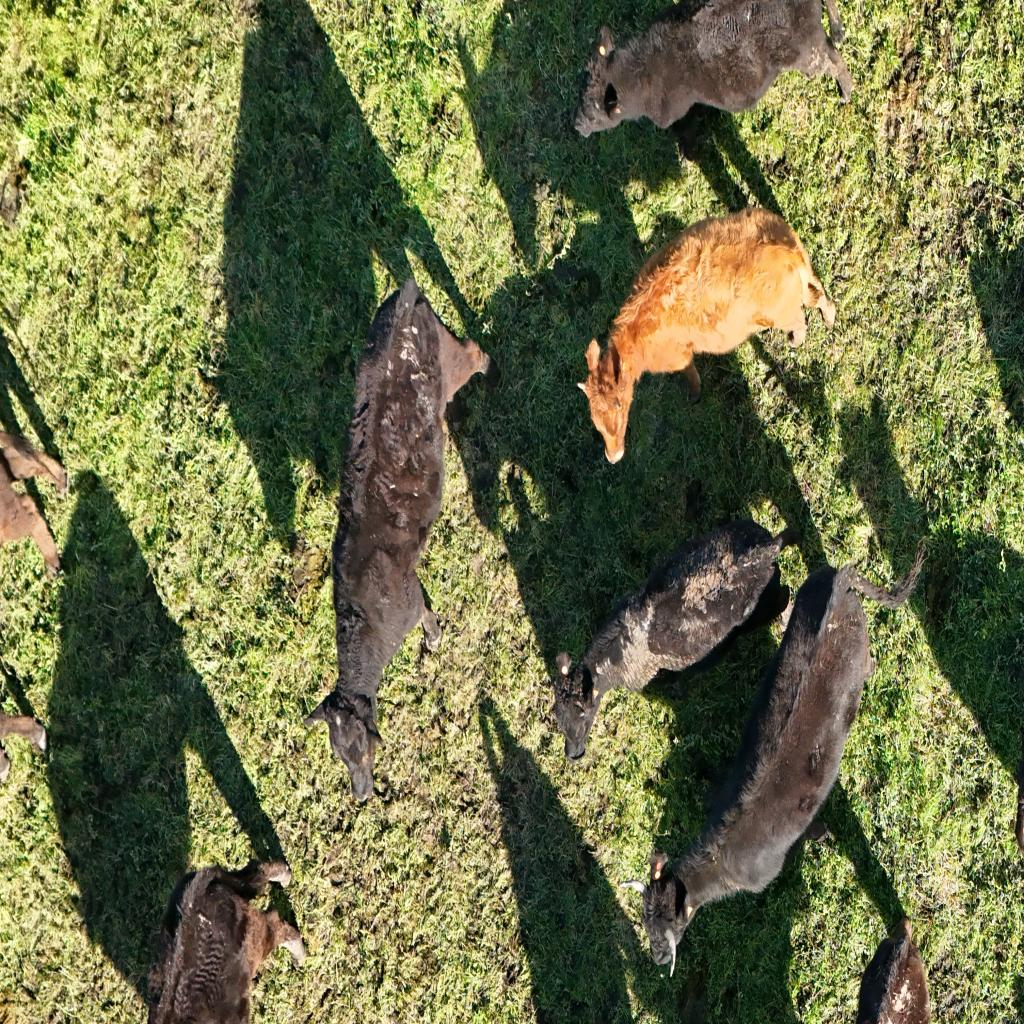cow: (633, 536, 924, 976), (332, 280, 492, 792), (574, 514, 836, 767), (572, 187, 803, 465), (571, 2, 856, 140), (143, 854, 305, 1022)
